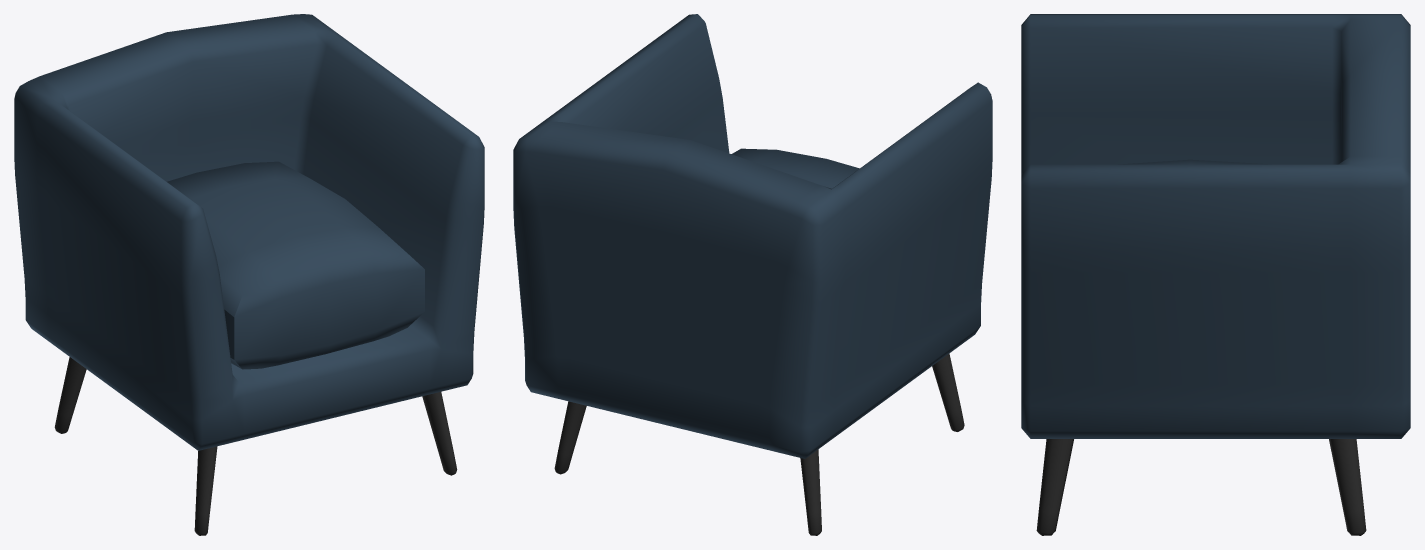
Rendered from furn-armchair-fabric-rounded.glb.
3 renders of one model, left to right at view 1: azimuth 30°, elevation 25°; view 2: azimuth 150°, elevation 25°; view 3: azimuth 270°, elevation 25°, orthographic. The views are drawn at different scales.
Parts seen in each view (by area): view 1: Couch_Small1; view 2: Couch_Small1; view 3: Couch_Small1.
Boxes of the visible parts, x1,y1,x2,y2 form: Couch_Small1: [14, 14, 484, 535]; Couch_Small1: [513, 14, 992, 535]; Couch_Small1: [1021, 14, 1410, 535].
Bounding box in the file's own units: 0.85 × 0.95 × 0.85.
